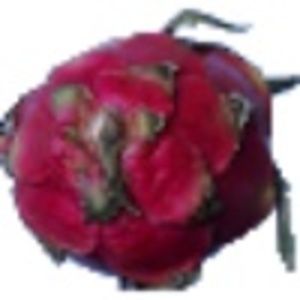pitaia: (1, 7, 300, 293)
